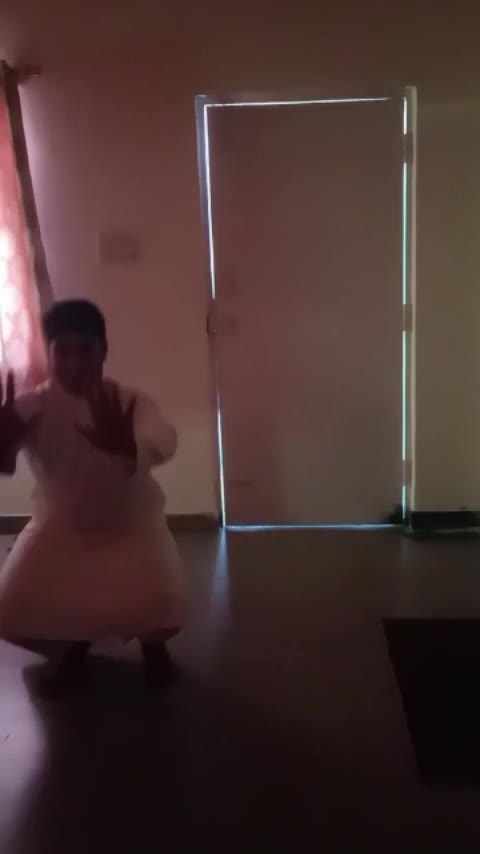duck: (4, 232, 221, 709)
